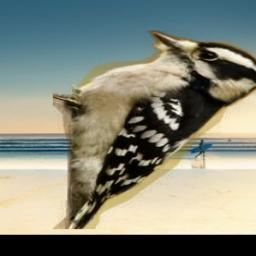Woodpecker: (54, 31, 256, 230)
